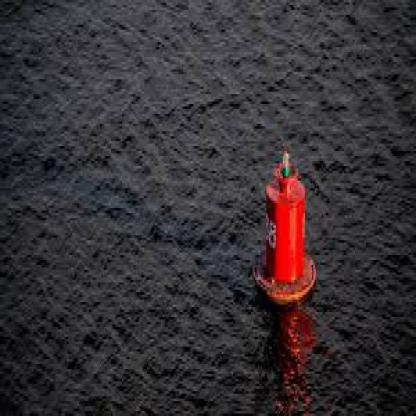buoy: (242, 142, 324, 324)
